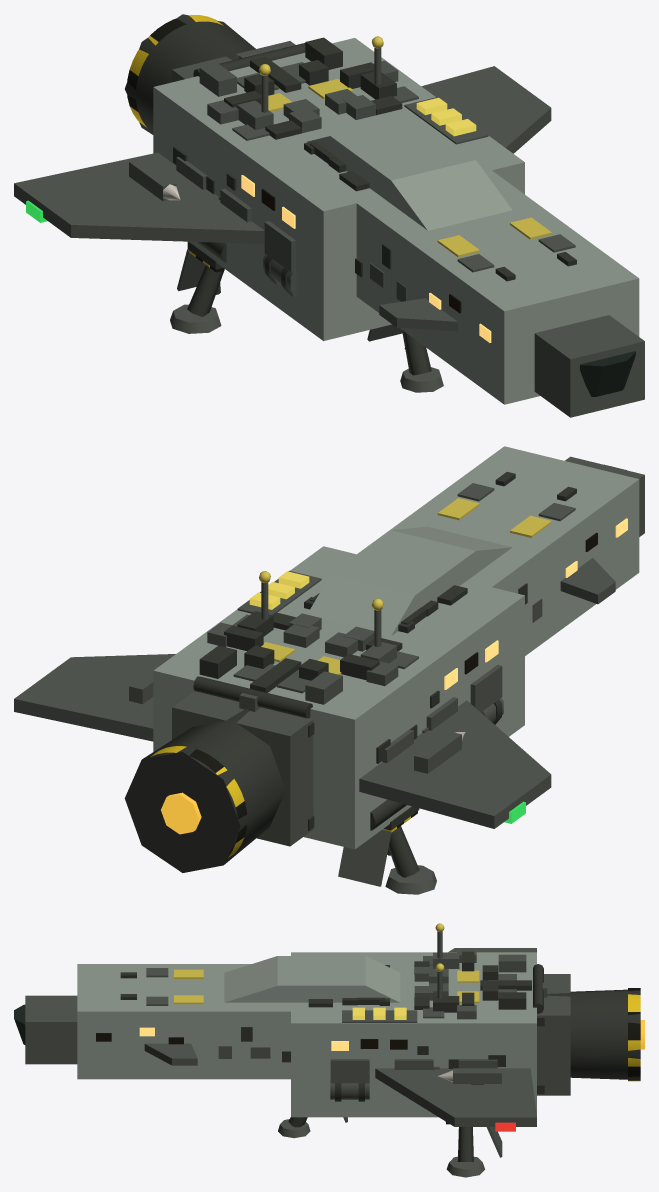
File: trader-s.glb
3 renders of one model, top to bottom at view 1: azimuth 30°, elevation 25°; view 2: azimuth 150°, elevation 25°; view 3: azimuth 270°, elevation 25°, orthographic. The views are drawn at different scales.
Visible parts, largest first — view 1: hullMain, hullNose, wingLeft, canopyFairing, hullNoseTip, wingRight, engineHousing, gearFoot (×2), gearStrut (×2), canardLeft, cockpitGlass, ventGreeble2L (+14 smaller); view 2: hullMain, hullNose, engineHousing, wingLeft, canopyFairing, wingRight, engineBayExtension, gearBayDoor, missileBody (×2), propellantHeader, canardLeft, engineGlow (+11 smaller); view 3: hullMain, hullNose, canopyFairing, wingRight, engineHousing, hullNoseTip, engineBayExtension, ventGreeble2R, gearFoot (×2), canardRight, missileBody, iffPlinthDorsal (+10 smaller).
Boxes of the visible parts, x1,y1,x2,y2 form: hullMain: (153,38,524,340); hullNose: (356,170,639,404); wingLeft: (14,152,264,243); canopyFairing: (307,115,512,230); hullNoseTip: (534,315,644,417); wingRight: (421,66,551,153); engineHousing: (125,14,255,134); gearFoot (×2): (170,304,443,392); gearStrut (×2): (187,265,431,375); canardLeft: (379,298,457,331); cockpitGlass: (579,351,635,396); ventGreeble2L: (264,221,295,272); hullMain: (153,546,524,849); hullNose: (357,446,639,655); engineHousing: (124,709,285,872); wingLeft: (359,700,551,828); canopyFairing: (307,526,512,636); wingRight: (14,654,175,741); engineBayExtension: (172,691,313,846); gearBayDoor: (338,829,391,886); missileBody (×2): (129,661,461,773); propellantHeader: (193,676,312,718); canardLeft: (560,558,615,604); engineGlow: (161,792,201,834); hullMain: (291,952,536,1117); hullNose: (77,964,290,1079); canopyFairing: (224,956,400,1002); wingRight: (375,1068,536,1126); engineHousing: (547,989,640,1080); hullNoseTip: (25,995,77,1064); engineBayExtension: (537,974,570,1095); ventGreeble2R: (330,1059,369,1083); gearFoot (×2): (278,1119,484,1177); canardRight: (144,1043,197,1065); missileBody: (453,1068,501,1083); iffPlinthDorsal: (342,1010,417,1022).
Bounding box in the file's own units: 3.13 × 1.6 × 4.87.
